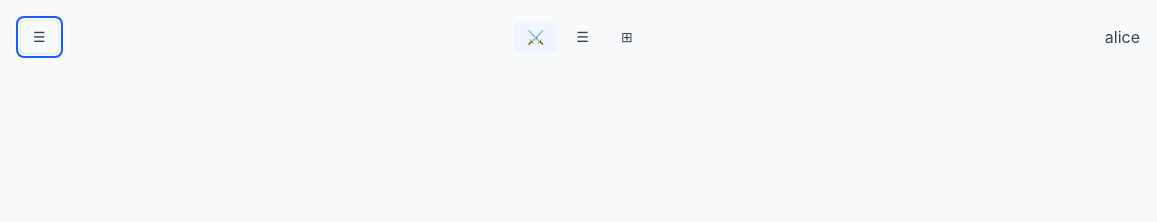
Test: Header hamburger menu › clicking hamburger reveals Sync to BGG, Refresh rankings, Unplayed, and Logout items
The image size is (1157, 222).
Click the button named "menu" at (39, 37), box x1=20 y1=20 x2=59 y2=54
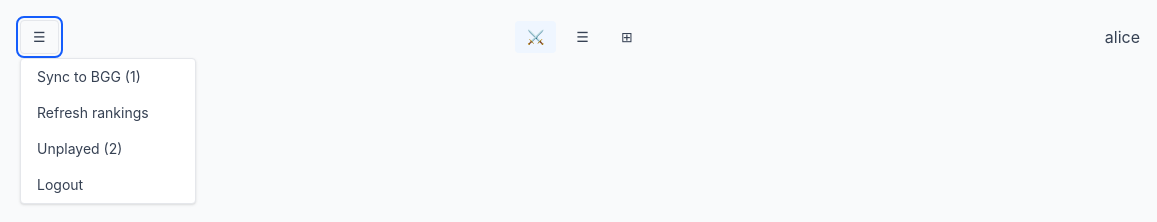
Expected: the button "Sync to BGG (1)" is shown, x1=21 y1=59 x2=195 y2=95
Expected: the button "Refresh rankings" is shown, x1=21 y1=95 x2=195 y2=131
Expected: the button "Unplayed (2)" is shown, x1=21 y1=131 x2=195 y2=167
